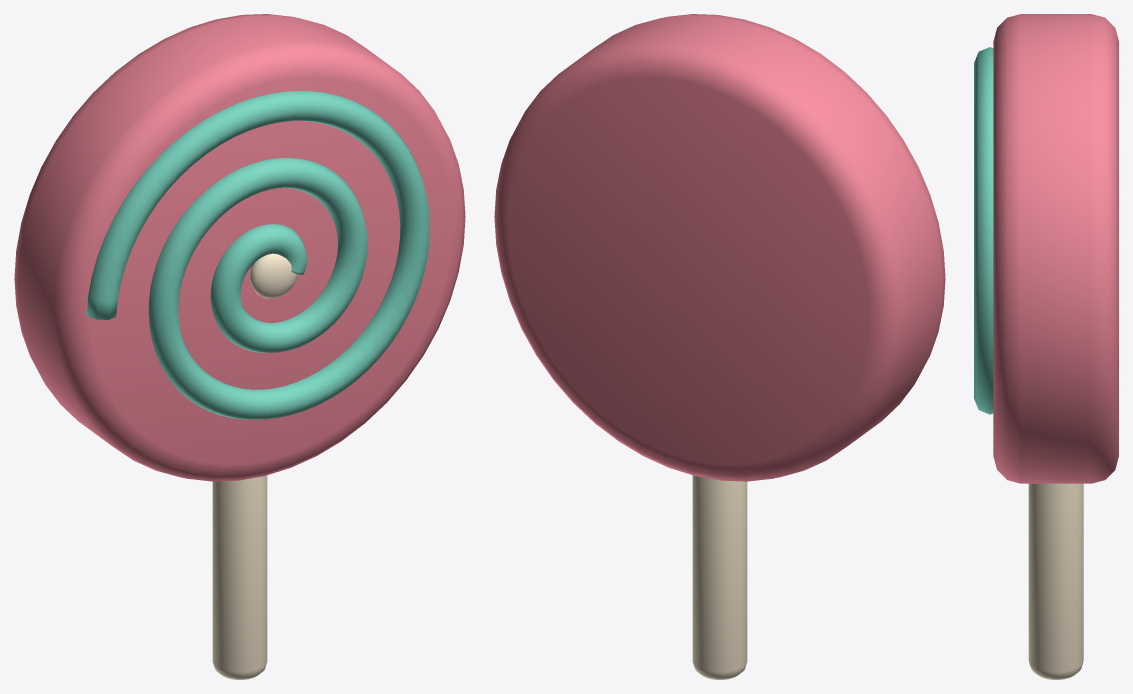
File: candy-Dyn_gn4D.glb
3 renders of one model, left to right at view 1: azimuth 30°, elevation 25°; view 2: azimuth 150°, elevation 25°; view 3: azimuth 270°, elevation 25°, orthographic.
Parts seen in each view (by area): view 1: candy_round, candy_swirl, candy_short_stick, candy_swirl_center; view 2: candy_round, candy_short_stick; view 3: candy_round, candy_short_stick, candy_swirl.
Part boxes in pixels (x1,y1,x2,y2): candy_round: (14,14,465,481); candy_swirl: (86,91,429,419); candy_short_stick: (212,475,267,679); candy_swirl_center: (249,253,297,298); candy_round: (494,14,945,481); candy_short_stick: (692,475,747,679); candy_round: (993,14,1118,483); candy_short_stick: (1028,483,1083,679); candy_swirl: (974,47,993,414).
Bounding box in the file's own units: 0.206 × 0.308 × 0.0635.
